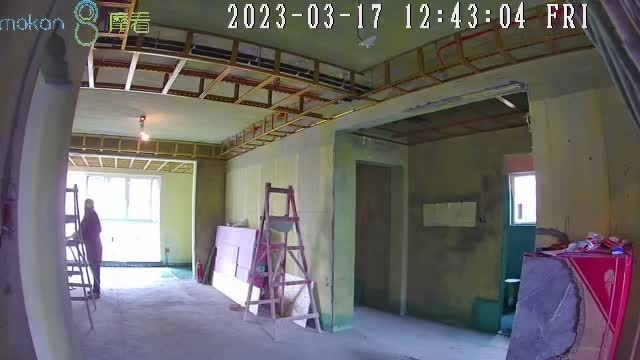people: (76, 199, 102, 299)
window: (68, 171, 161, 264)
